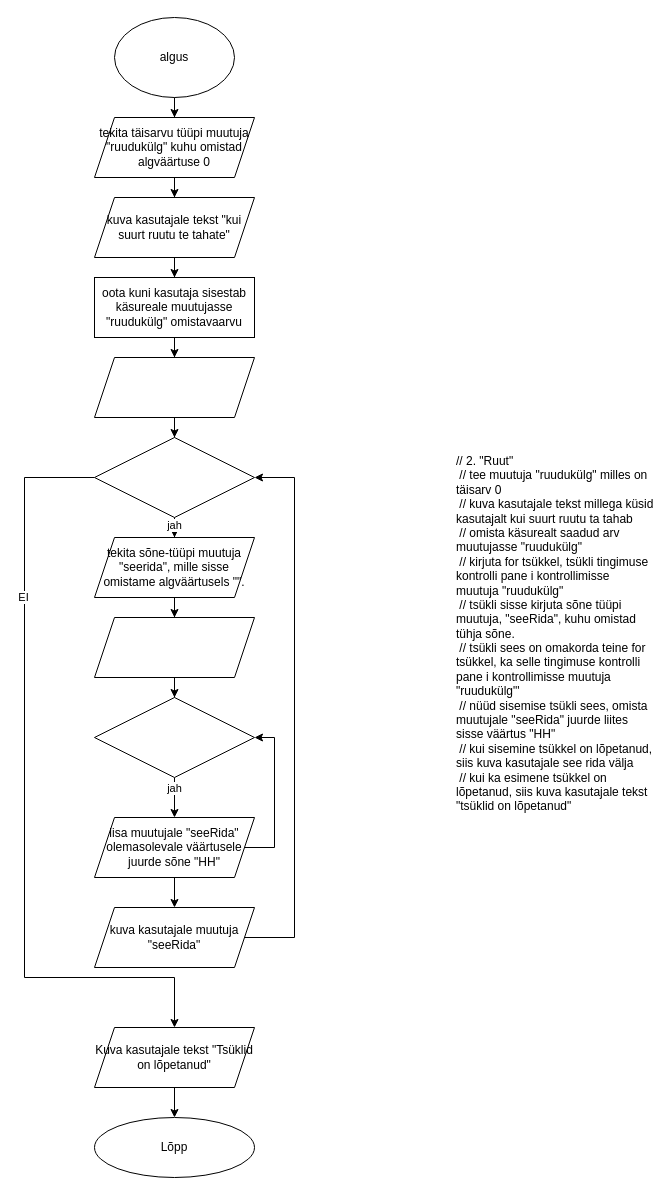
The diagram is 672 pixels wide and 1195 high, and some of its shapes have lost their labels. Each missing label, with the box of its shape:
kas tsüklis olev muutuja "i" on suurem kui arv muutujas "ruudukülg"?: (94, 436, 254, 518)
kas tsüklis olev muutuja "i" on väiksem kui arv mutujas"ruudukülg"?: (94, 696, 254, 778)
seadista for-tsükkel millel on tsükli töö jaoks muutuja "i": (94, 356, 254, 418)
seadista teine for-tsükkel millel on tsükli töö jaoks muutuja "i": (94, 616, 254, 678)
